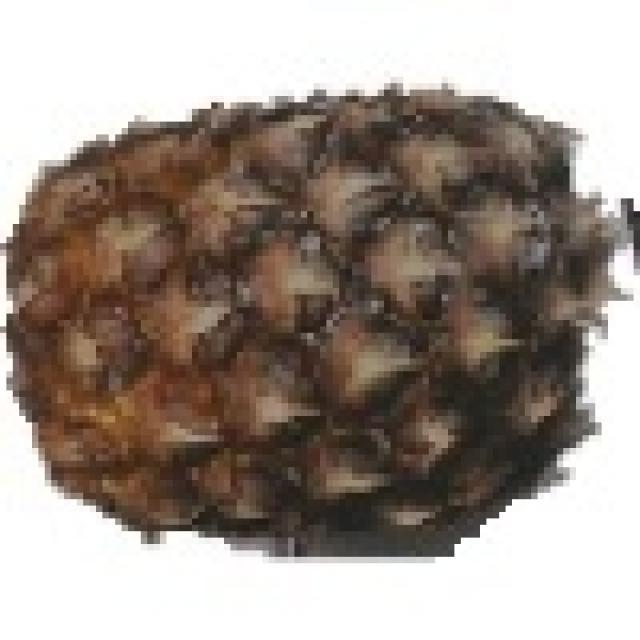pineapple: (0, 83, 595, 538)
